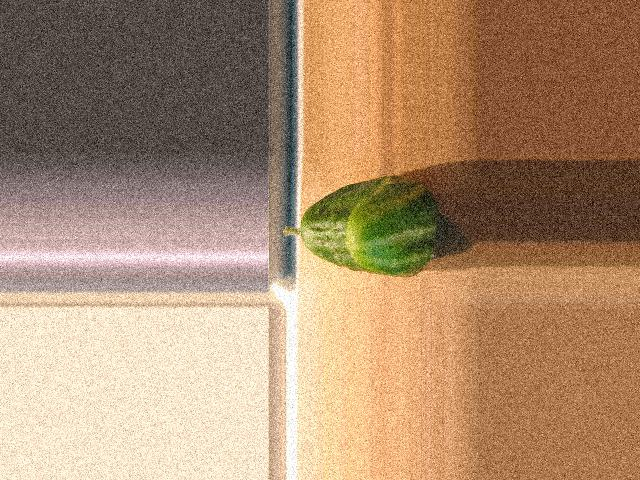cucumber: (282, 176, 438, 278)
